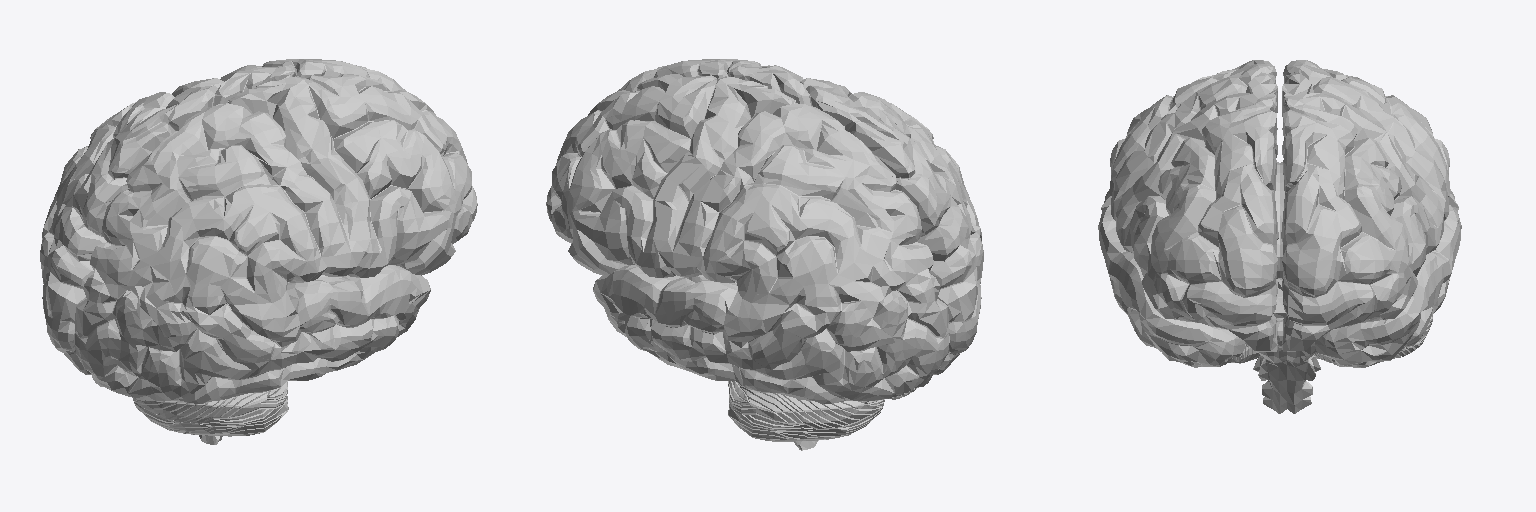
File: brain.obj
3 renders of one model, left to right at view 1: azimuth 30°, elevation 25°; view 2: azimuth 150°, elevation 25°; view 3: azimuth 270°, elevation 25°, orthographic.
Size of the model in its own units: 6.42 by 5.62 by 5.28.